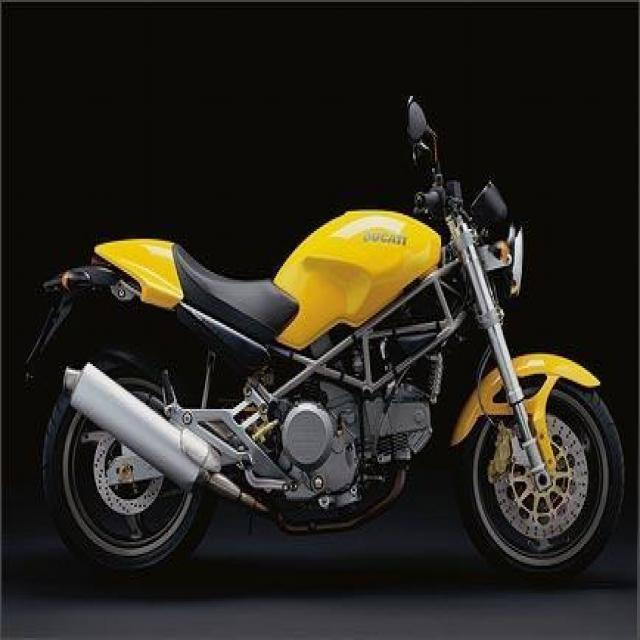Motorcycle: (39, 110, 624, 582)
